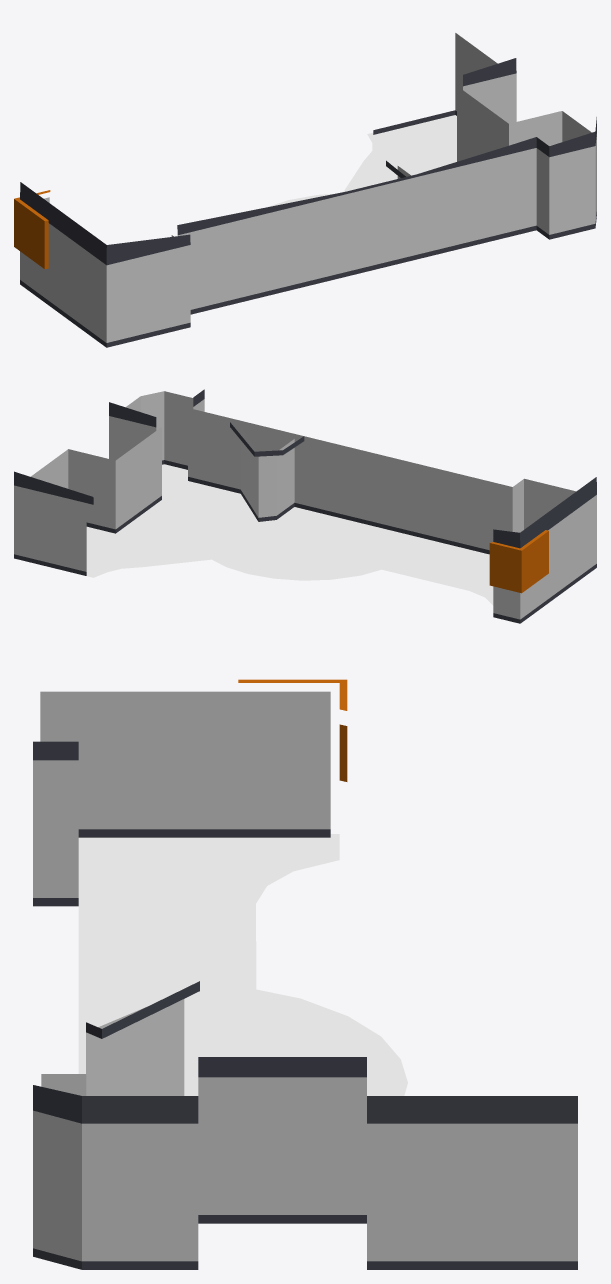
The picture shows the model from 3 angles, top to bottom: view 1: azimuth 30°, elevation 25°; view 2: azimuth 150°, elevation 25°; view 3: azimuth 270°, elevation 25°; orthographic projection. The views are drawn at different scales.
Visible parts, largest first — view 1: imagetostl_mesh; view 2: imagetostl_mesh; view 3: imagetostl_mesh.
Boxes of the visible parts, x1,y1,x2,y2 form: imagetostl_mesh: [14, 33, 596, 347]; imagetostl_mesh: [14, 389, 596, 623]; imagetostl_mesh: [33, 679, 577, 1269].
Bounding box in the file's own units: 1.12 × 0.2168 × 0.5886.
